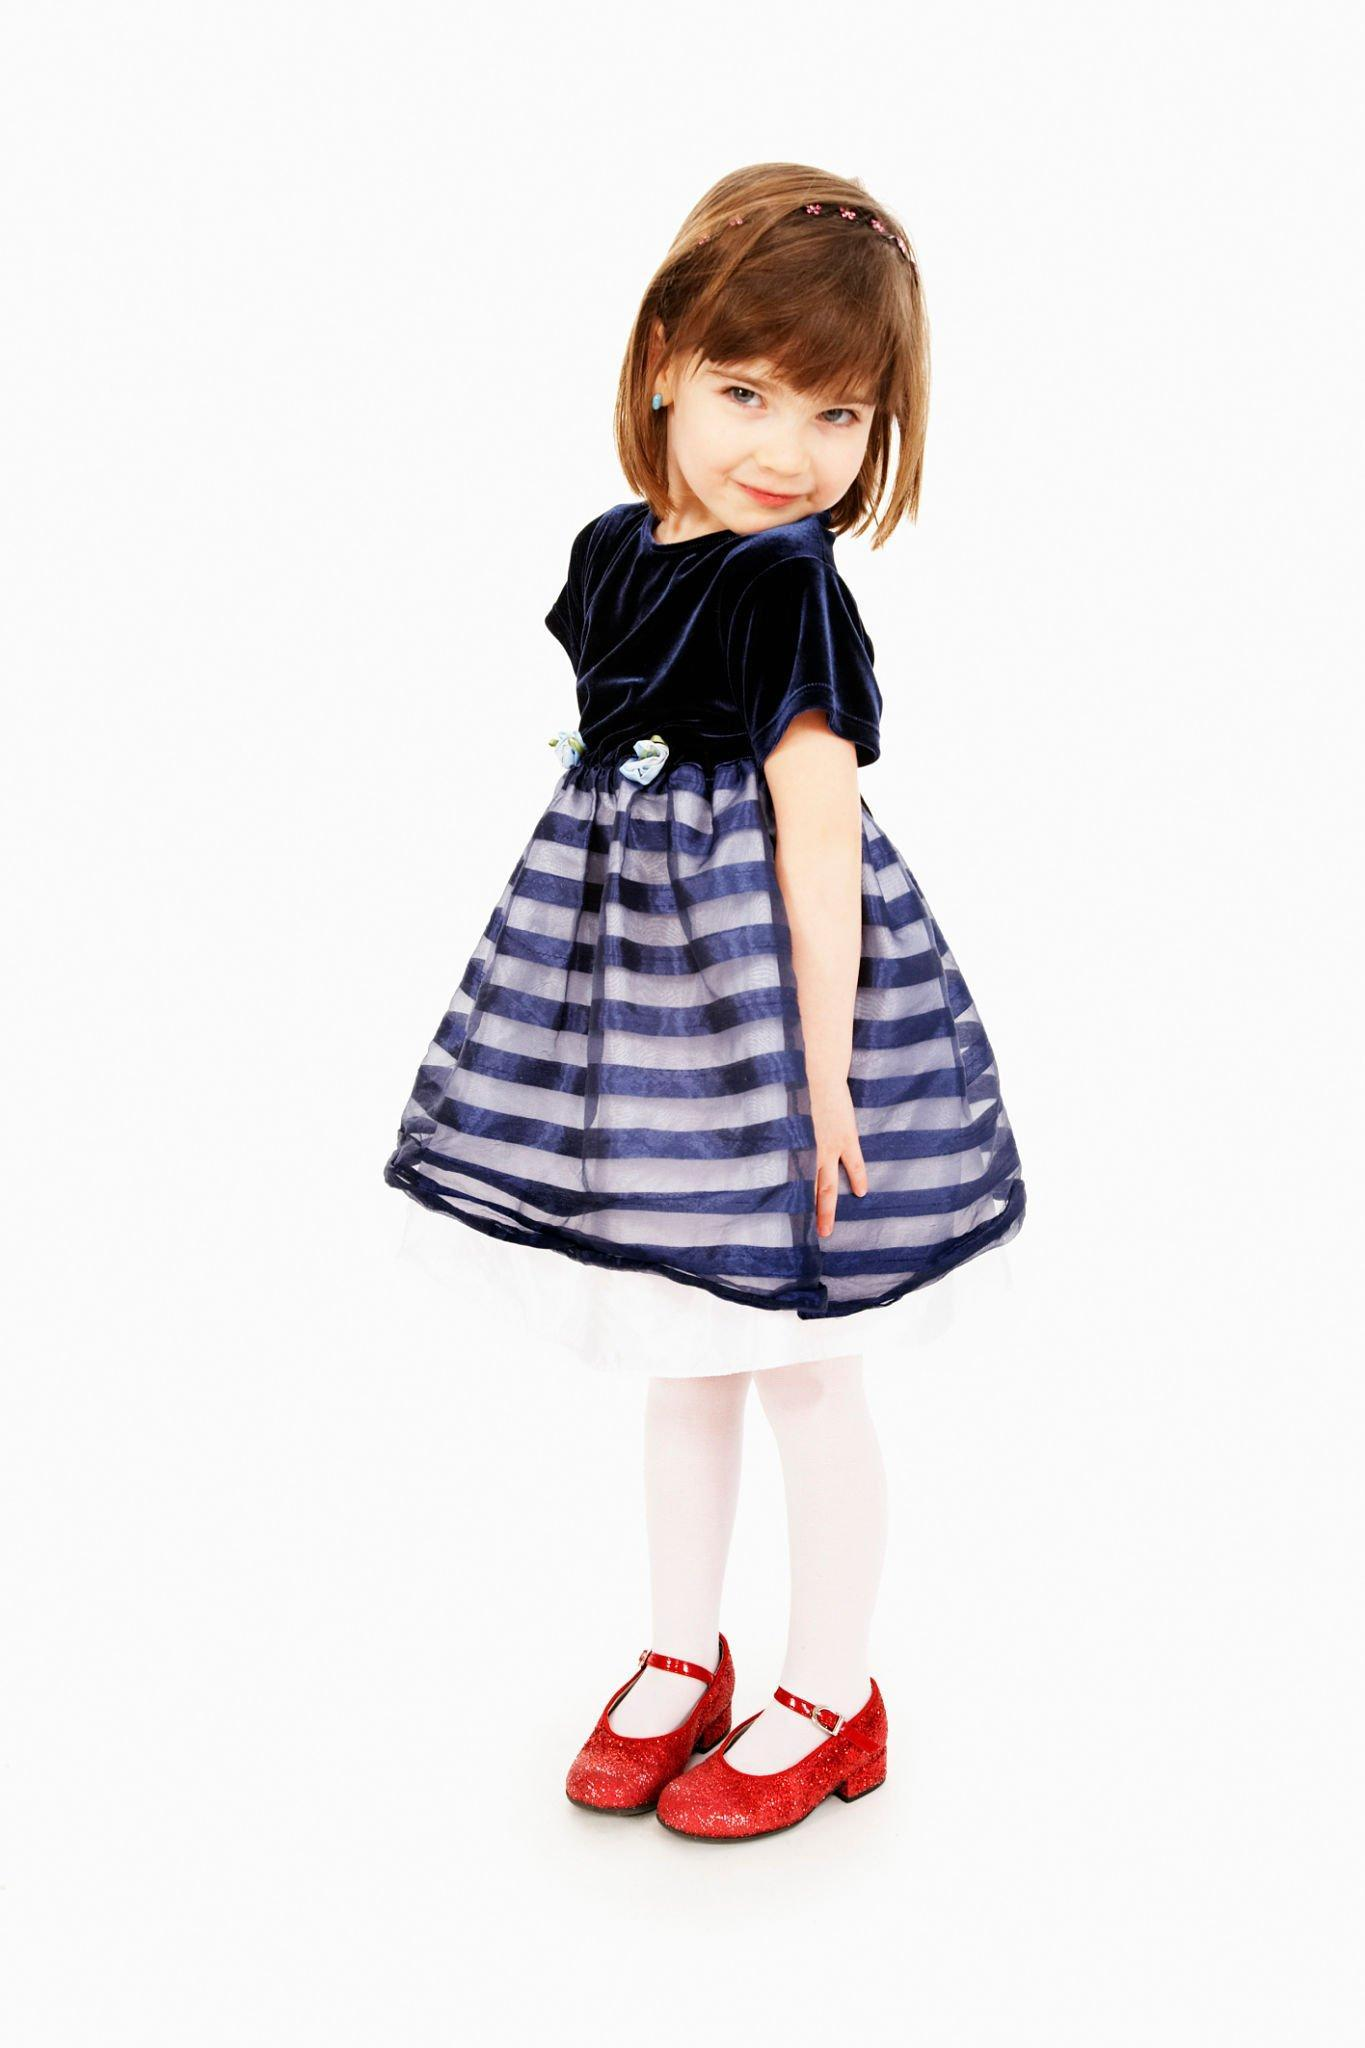Healthy: (609, 207, 938, 573)
